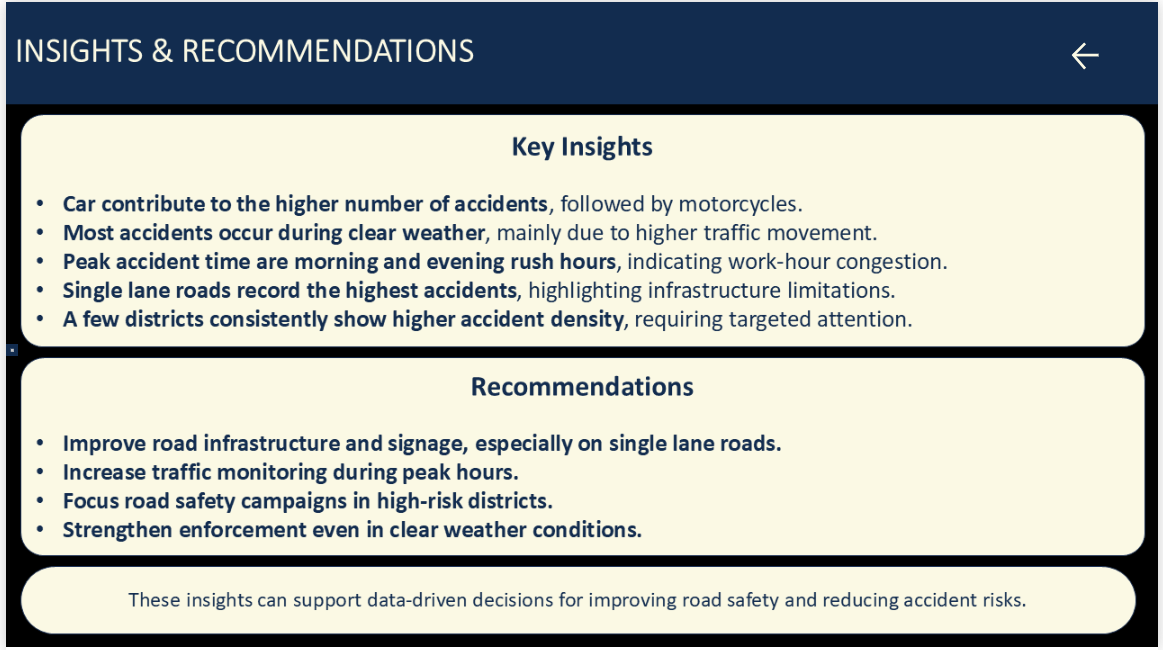

Layout of this report page (visuals, bound fields, positions):
{"tool":"powerbi","page":{"name":"Insights","canvas":[1280,720],"ordinal":2},"visuals":[{"type":"textbox","box":[0,383.3,13.3,13.3],"z":1},{"type":"actionButton","box":[1180,40,100,40],"z":2}]}

Visuals, with their boxes in screenshot pixels (x1, y1, x2, y2), scaled from the page's 1280x720 canvas onto the 1163x650 screenshot:
textbox: x1=0 y1=346 x2=12 y2=358
actionButton: x1=1072 y1=36 x2=1162 y2=72
